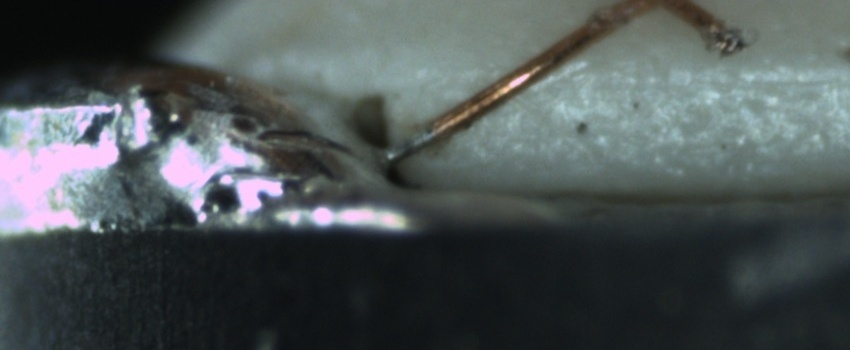DL: (535, 46, 849, 104)
TS: (382, 129, 434, 163)
TTCW: (384, 111, 471, 159)
